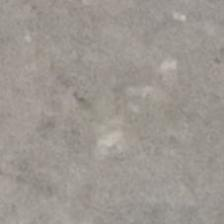Non_Crack: (35, 30, 224, 204)
